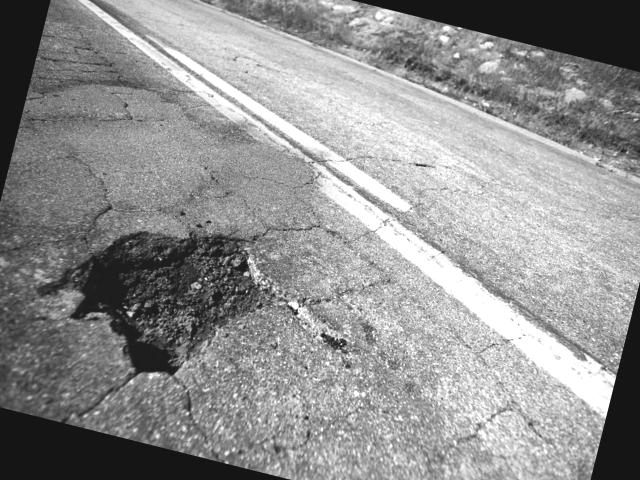Pothole: (22, 155, 372, 439)
